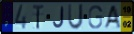4: (14, 4, 28, 31)
A: (102, 4, 122, 30)
G: (88, 5, 104, 30)
J: (52, 6, 65, 29)
T: (32, 4, 45, 30)
U: (67, 3, 85, 31)
